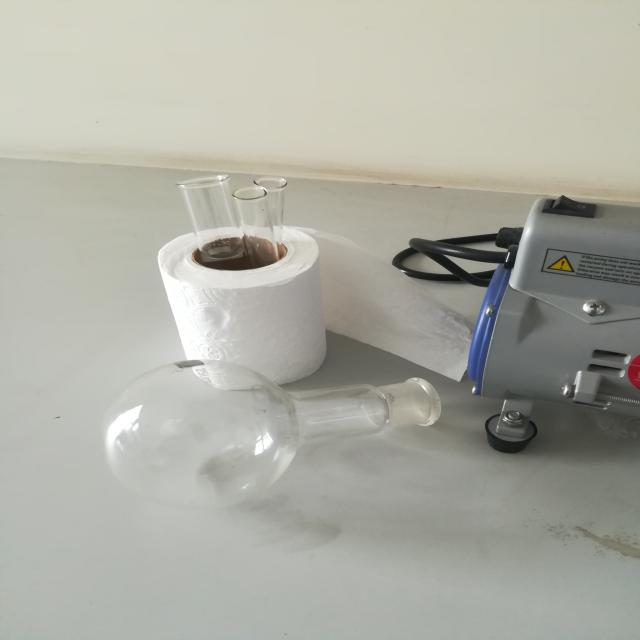Round_Bottom_Flask_Borosilicate_Glass_1_Neck: (41, 334, 490, 542)
